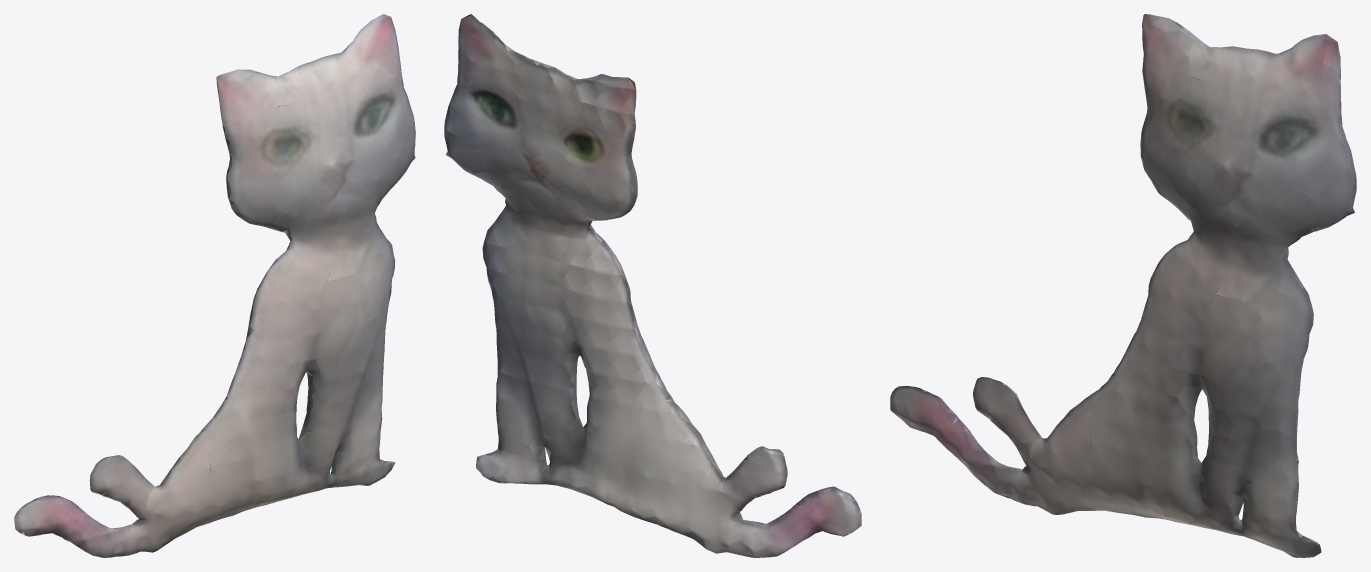
3 renders of one model, left to right at view 1: azimuth 30°, elevation 25°; view 2: azimuth 150°, elevation 25°; view 3: azimuth 330°, elevation 25°, orthographic. The views are drawn at different scales.
Parts seen in each view (by area): view 1: world; view 2: world; view 3: world.
Boxes of the visible parts, <box> form: world: <box>14,14,415,557</box>; world: <box>444,14,861,557</box>; world: <box>890,14,1356,557</box>.
Bounding box in the file's own units: 0.7443 × 0.8354 × 0.0865.
1 material, 1 textured.
